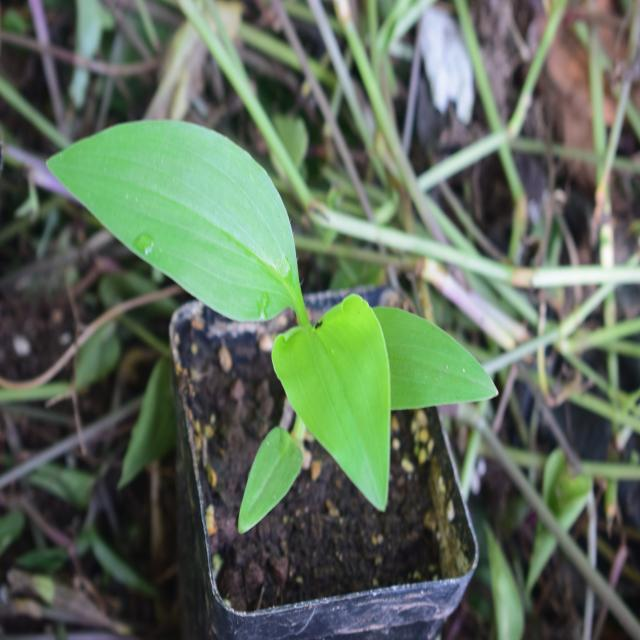Common Dayflower: (85, 119, 481, 508)
